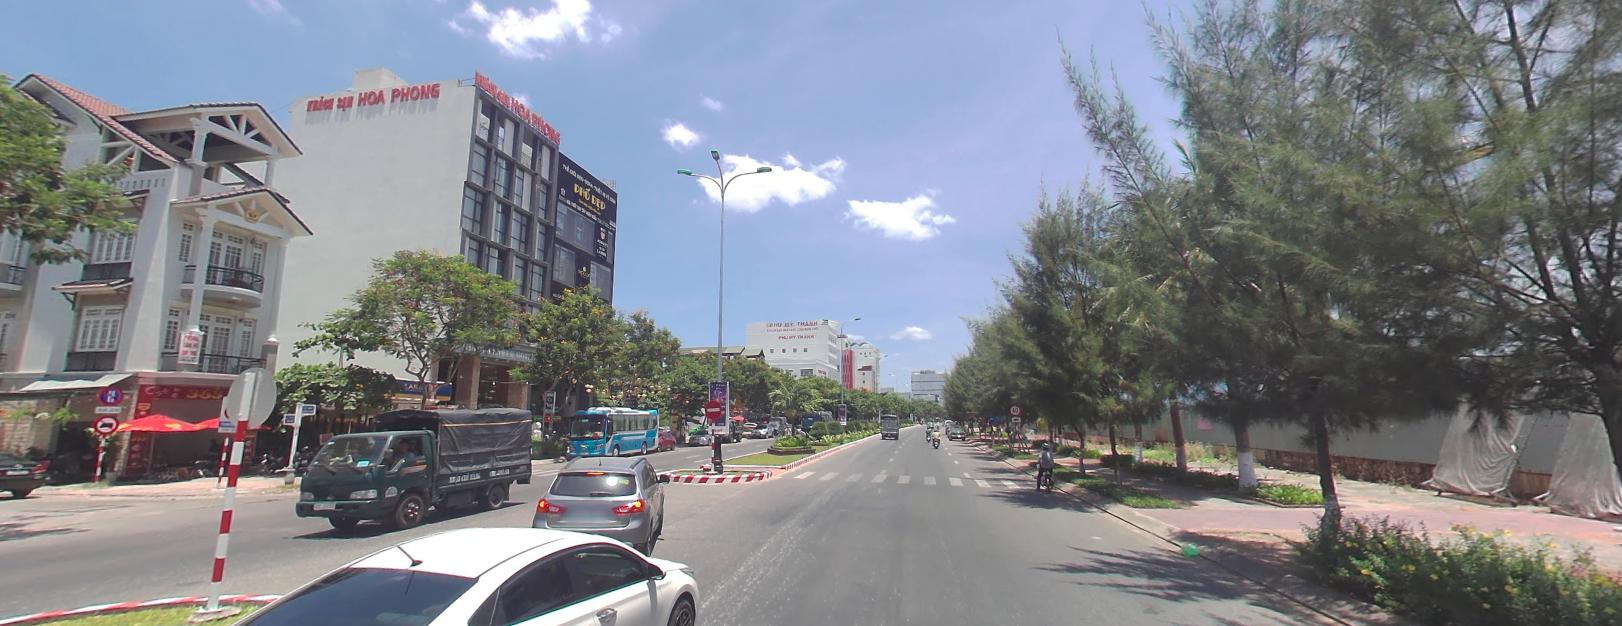Cam con lai: (94, 413, 117, 433)
Cam dung va do: (97, 384, 122, 404)
Cam nguoc chieu: (704, 399, 720, 416)
Gioi han toc do: (1008, 403, 1020, 414)
